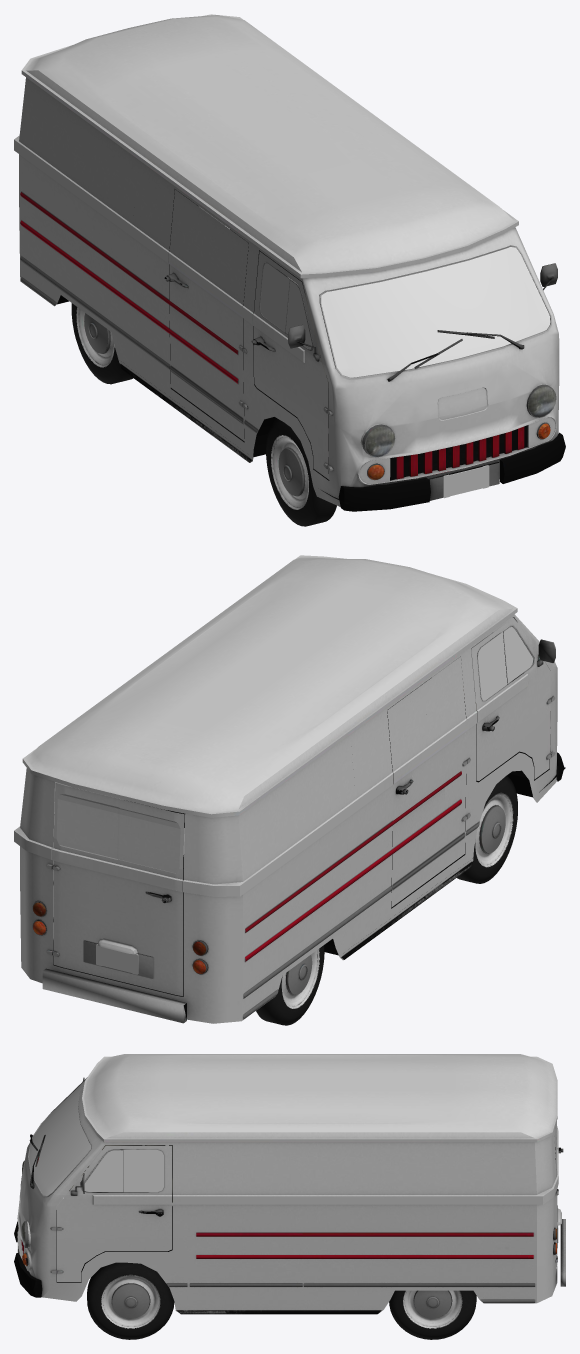
File: TRAFFIC_Wagon001.fbx
3 renders of one model, top to bottom at view 1: azimuth 30°, elevation 25°; view 2: azimuth 150°, elevation 25°; view 3: azimuth 270°, elevation 25°, orthographic. The views are drawn at different scales.
Parts seen in each view (by area): view 1: WAGON_001 Body, WAGON_001 Glass, WAGON_001 WFR, WAGON_001 WRR, WAGON_001 Signs; view 2: WAGON_001 Body, WAGON_001 WFR, WAGON_001 WRR, WAGON_001 Glass, WAGON_001 Signs; view 3: WAGON_001 Body, WAGON_001 Glass, WAGON_001 WFL, WAGON_001 WRL.
Part boxes in pixels (x1,y1,x2,y2): WAGON_001 Body: (14, 14, 565, 511); WAGON_001 Glass: (260, 247, 550, 377); WAGON_001 WFR: (266, 418, 336, 526); WAGON_001 WRR: (71, 303, 133, 384); WAGON_001 Signs: (443, 465, 489, 498); WAGON_001 Body: (14, 555, 565, 1023); WAGON_001 WFR: (457, 776, 517, 883); WAGON_001 WRR: (256, 945, 324, 1025); WAGON_001 Glass: (478, 618, 537, 700); WAGON_001 Signs: (96, 944, 138, 974); WAGON_001 Body: (14, 1054, 565, 1314); WAGON_001 Glass: (29, 1081, 163, 1195); WAGON_001 WFL: (87, 1262, 174, 1339); WAGON_001 WRL: (389, 1290, 476, 1339).
Size of the model in its own units: 209 by 211 by 478.
